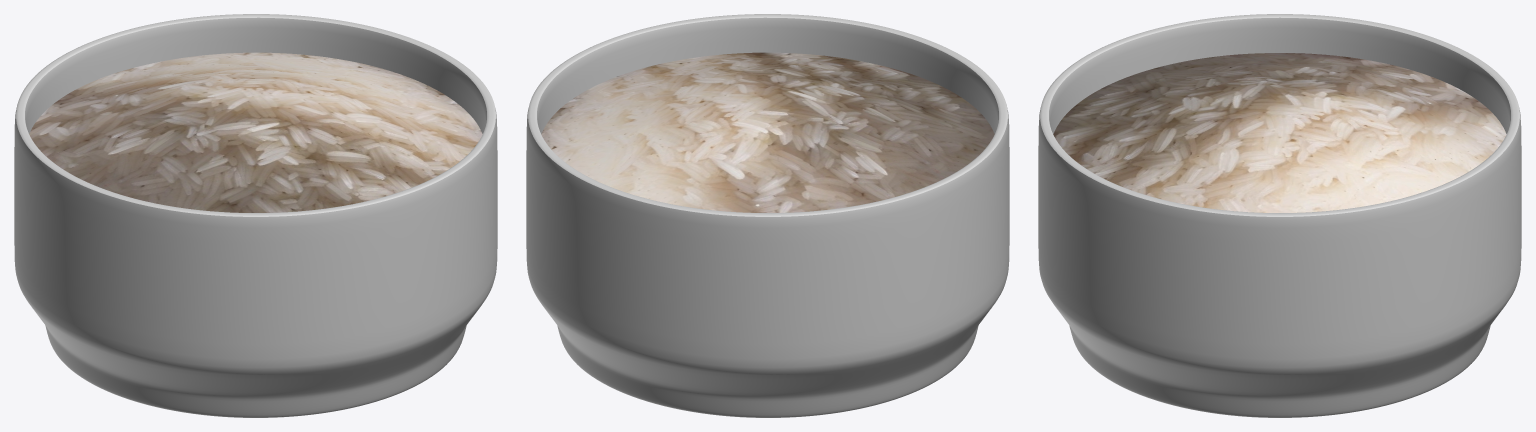
File: rice-in-bowl.glb
3 views of the same model, side by side, from view 1: azimuth 30°, elevation 25°; view 2: azimuth 150°, elevation 25°; view 3: azimuth 270°, elevation 25° (orthographic).
Parts seen in each view (by area): view 1: Object_2, Object_3; view 2: Object_2, Object_3; view 3: Object_2, Object_3.
Boxes of the visible parts, x1,y1,x2,y2 form: Object_2: (14, 14, 497, 417); Object_3: (29, 52, 482, 212); Object_2: (526, 14, 1009, 417); Object_3: (541, 52, 994, 212); Object_2: (1038, 14, 1521, 417); Object_3: (1053, 53, 1506, 212).
Size of the model in its own units: 0.9187 by 0.4739 by 0.9187.
2 materials, 1 textured.
